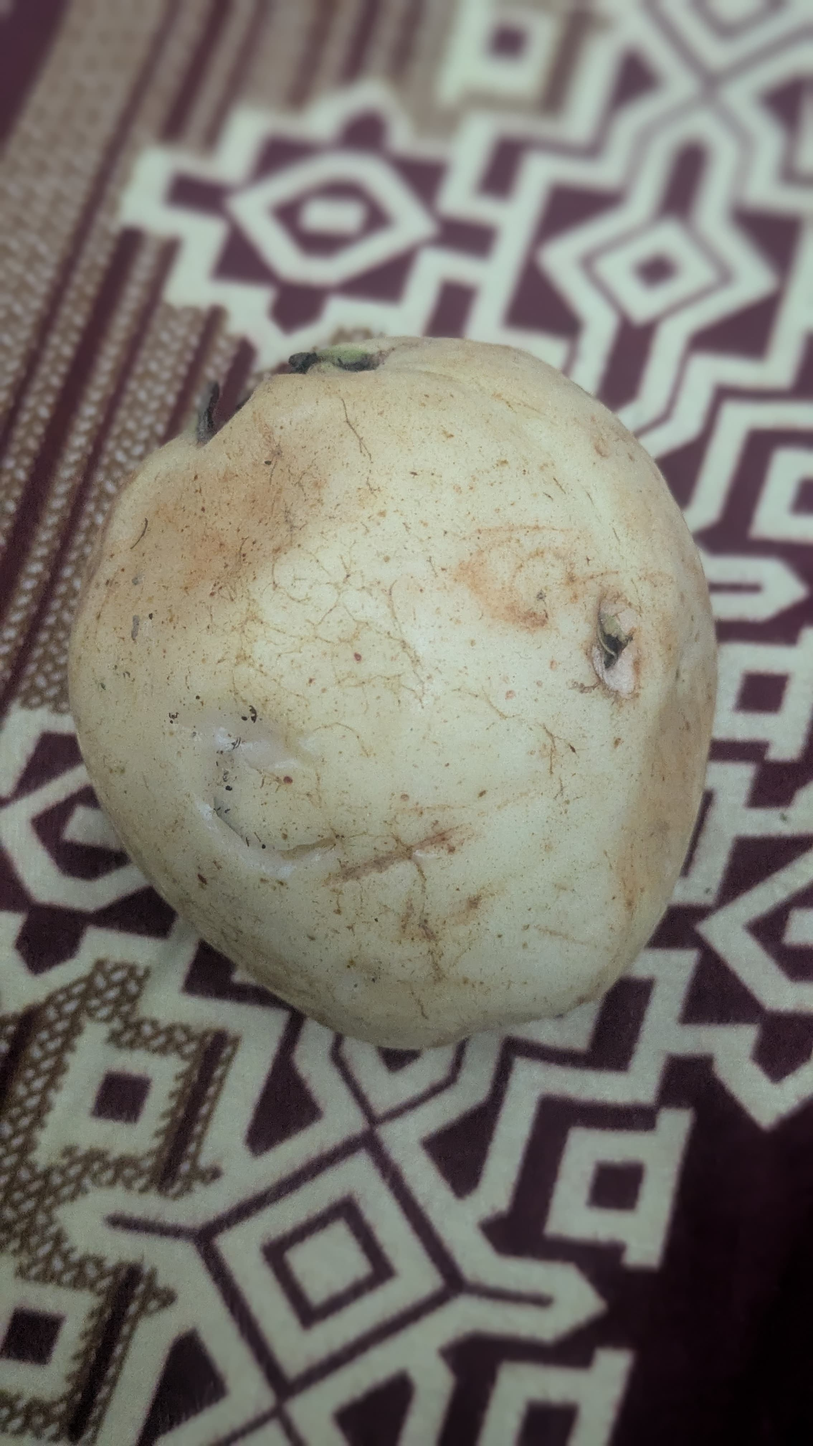guava: (39, 327, 680, 1216)
